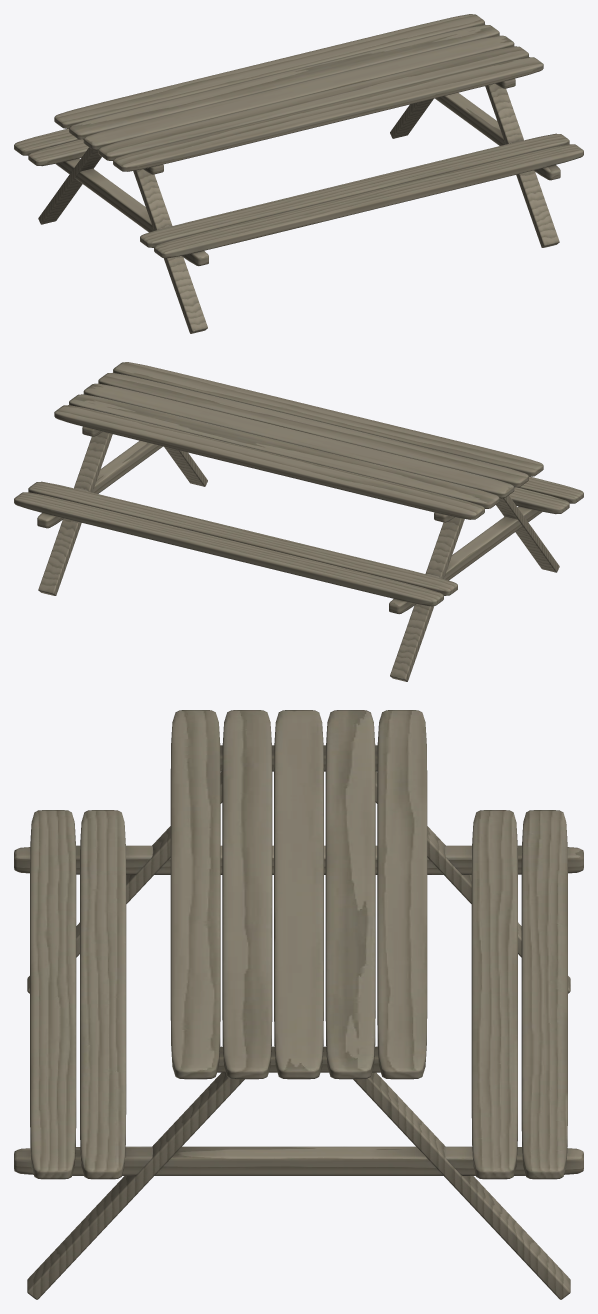
The model's file is weathered-long.glb.
The picture shows the model from 3 angles, top to bottom: view 1: azimuth 30°, elevation 25°; view 2: azimuth 150°, elevation 25°; view 3: azimuth 270°, elevation 25°; orthographic projection. The views are drawn at different scales.
Visible parts, largest first — view 1: wood_x, wood_z, wood_y; view 2: wood_x, wood_z, wood_y; view 3: wood_x, wood_z, wood_y.
Boxes of the visible parts, x1,y1,x2,y2 form: wood_x: [14, 14, 583, 258]; wood_z: [38, 83, 559, 333]; wood_y: [55, 78, 560, 266]; wood_x: [14, 362, 583, 606]; wood_z: [38, 431, 559, 681]; wood_y: [37, 426, 542, 614]; wood_x: [30, 710, 567, 1179]; wood_z: [27, 771, 570, 1299]; wood_y: [14, 745, 583, 1175].
Size of the model in its own units: 2.4 by 0.7905 by 1.6.
3 materials, 3 textured.
